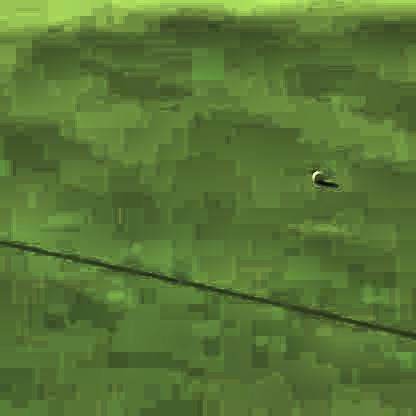golfball: (308, 163, 319, 179)
